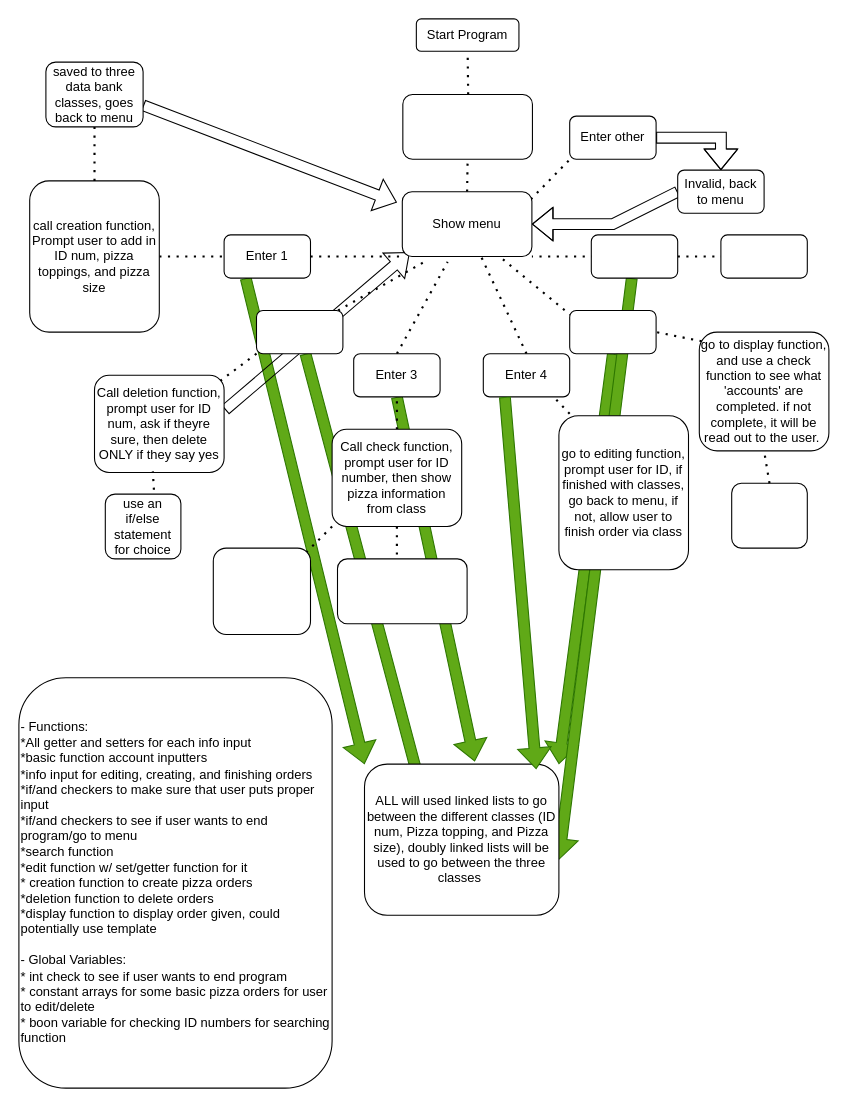
Some shapes in this 848 by 1107 pixel diagram are drawn without their labels. The box of each missing label's shape, as (x1, y1, x2, y2) in pixels:
End Program: (720, 234, 807, 278)
Enter 2: (255, 309, 343, 354)
Enter 5: (569, 309, 656, 354)
Enter 6: (590, 234, 678, 278)
if found, go back to menu. Always have prompt to do so through sentinel: (336, 558, 467, 624)
If ID does not exist, then ask for it again using a while loop: (212, 547, 310, 634)
if while loop for checking: (731, 482, 807, 548)
Tell user what program is about: (402, 93, 532, 159)
